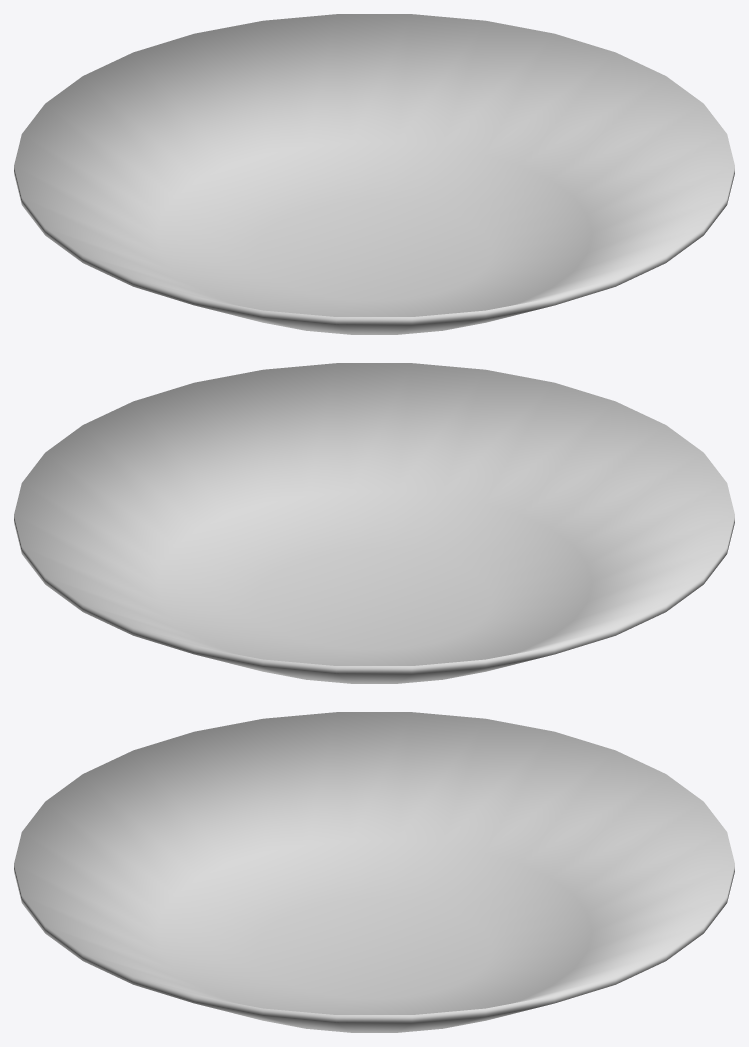
Rendered from Deep_plate.fbx.
3 renders of one model, top to bottom at view 1: azimuth 30°, elevation 25°; view 2: azimuth 150°, elevation 25°; view 3: azimuth 270°, elevation 25°, orthographic.
Parts seen in each view (by area): view 1: Deep_plate; view 2: Deep_plate; view 3: Deep_plate.
Boxes of the visible parts, bbox=[...] form: Deep_plate: bbox=[14, 14, 734, 334]; Deep_plate: bbox=[14, 363, 734, 683]; Deep_plate: bbox=[14, 712, 734, 1032].
Bounding box in the file's own units: 0.1178 × 0.0169 × 0.1185.
Materials: 1 (1 with a texture image).
